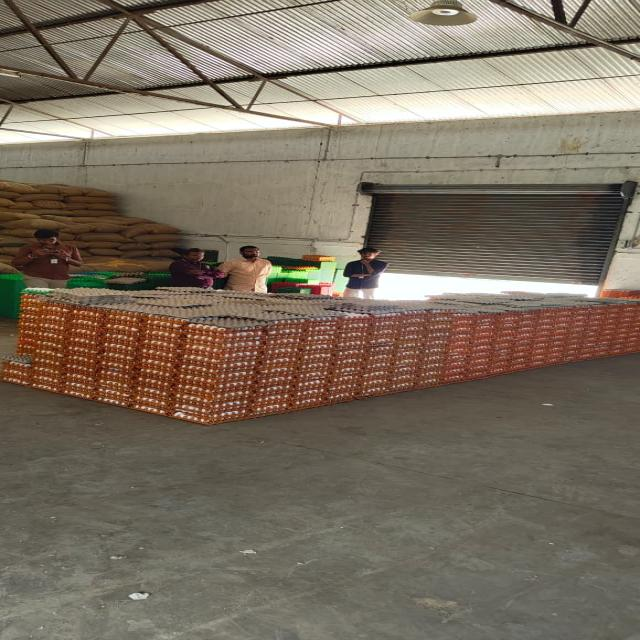egg_tray: (19, 292, 639, 424), (177, 319, 348, 422), (177, 320, 339, 422), (97, 313, 185, 414), (174, 324, 259, 423), (248, 320, 308, 416), (131, 316, 188, 412), (94, 310, 147, 406), (289, 318, 344, 410), (390, 312, 451, 392), (61, 306, 107, 399), (326, 316, 371, 403), (31, 303, 72, 392), (359, 315, 403, 396), (17, 294, 43, 354), (2, 354, 31, 386), (600, 290, 639, 299), (351, 320, 366, 330), (156, 305, 171, 311), (350, 376, 355, 390), (79, 292, 85, 302), (342, 392, 352, 398), (359, 341, 363, 354), (163, 292, 174, 296), (191, 339, 196, 346), (119, 312, 127, 316), (4, 376, 11, 380), (111, 312, 117, 314), (199, 296, 201, 302), (335, 384, 339, 387), (342, 384, 345, 386), (167, 312, 171, 313), (339, 380, 341, 382), (121, 316, 122, 318), (351, 336, 352, 338), (190, 381, 191, 382), (118, 292, 119, 293), (19, 383, 20, 383), (188, 299, 188, 299)
